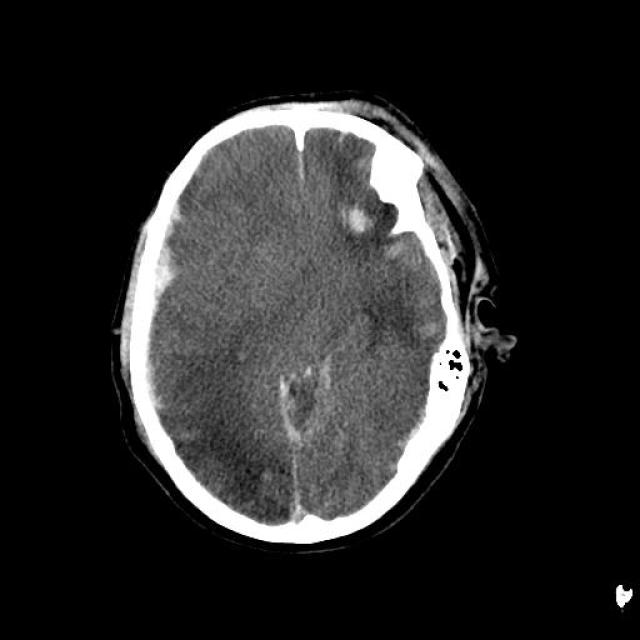Intraparenchymal: (336, 184, 382, 268)
Subdural: (108, 181, 208, 415)
